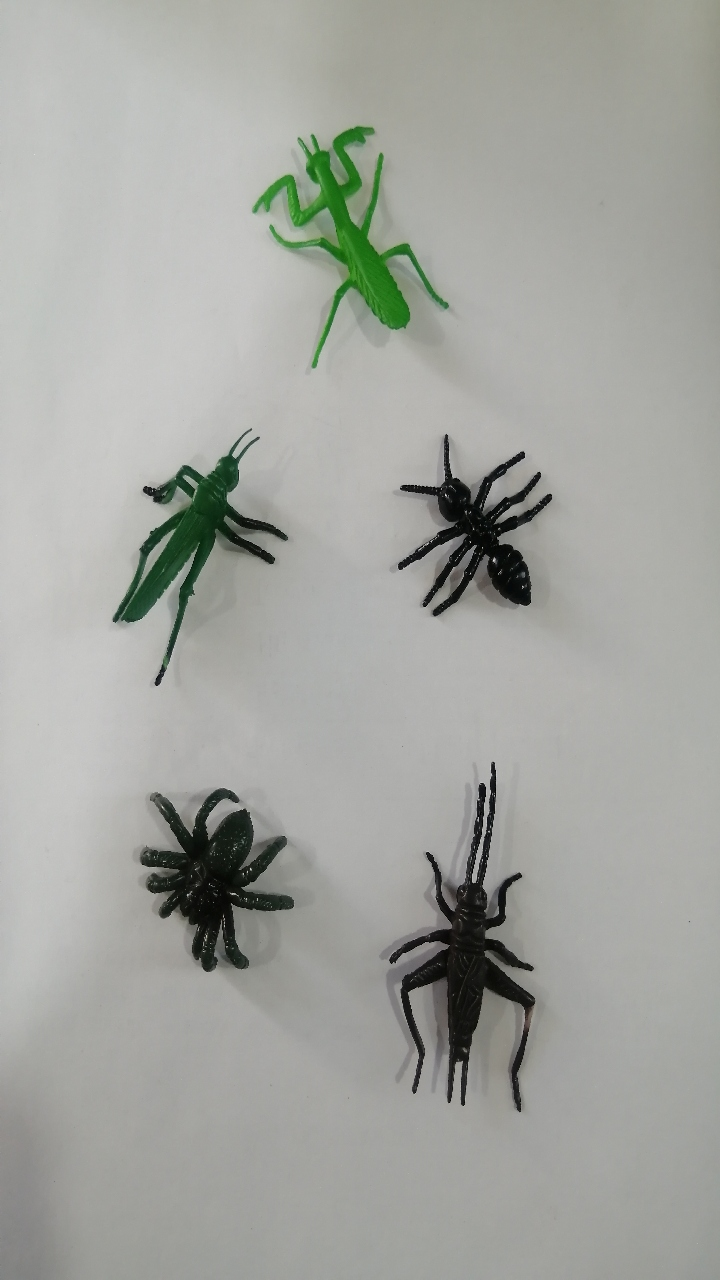intruso: (354, 722, 572, 1129), (224, 68, 483, 391), (81, 409, 301, 717), (101, 732, 312, 1020), (372, 400, 574, 652)
